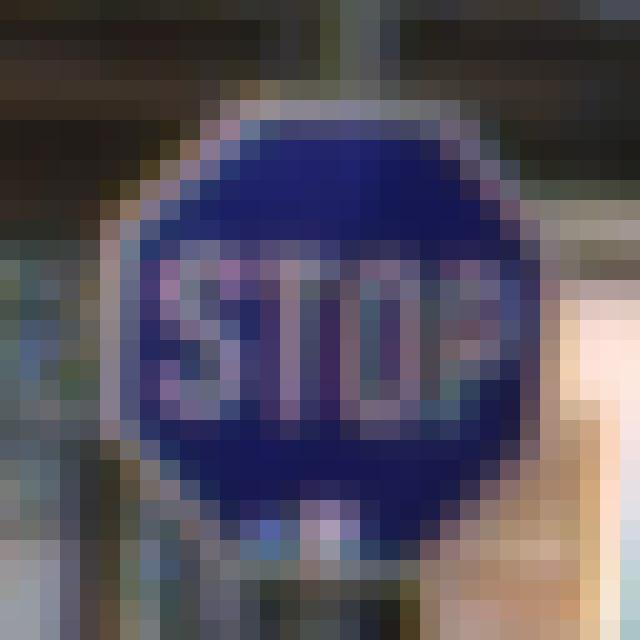STOP: (112, 110, 538, 567)
